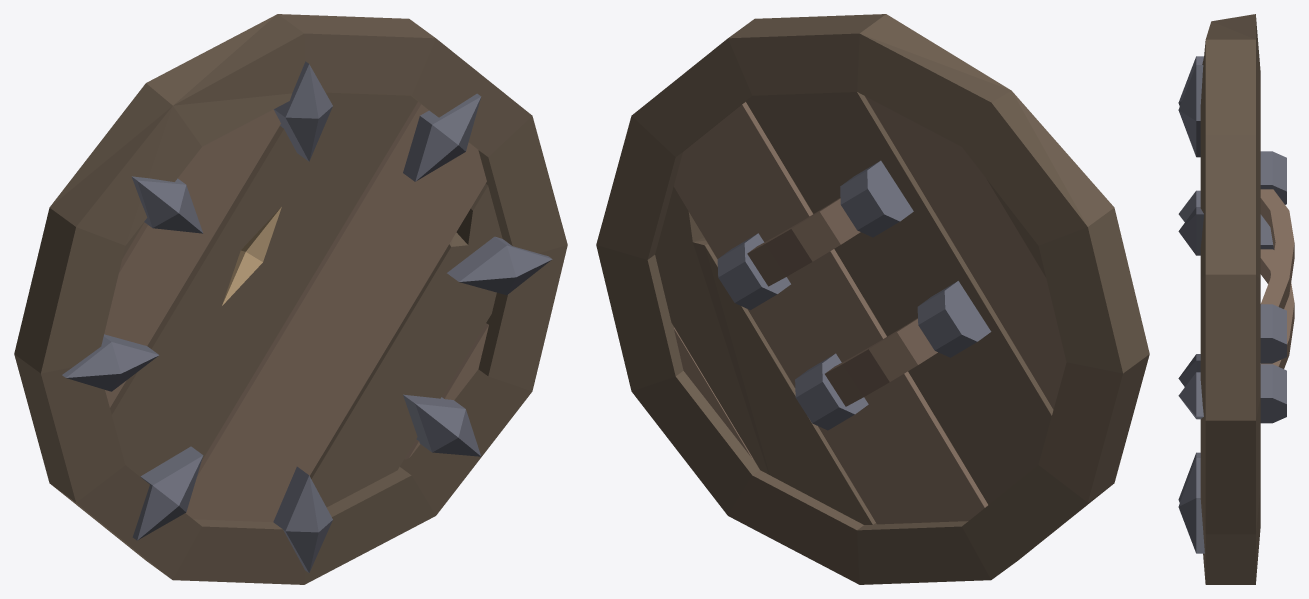
The model's file is shield_shield_3.glb.
3 renders of one model, left to right at view 1: azimuth 30°, elevation 25°; view 2: azimuth 150°, elevation 25°; view 3: azimuth 270°, elevation 25°, orthographic. The views are drawn at different scales.
Visible parts, largest first — view 1: shield_3; view 2: shield_3; view 3: shield_3.
Part boxes in pixels (box(x1,y1,x2,y2)): shield_3: box(14, 14, 567, 584); shield_3: box(596, 14, 1149, 584); shield_3: box(1178, 14, 1294, 584).
Bounding box in the file's own units: 64 × 64 × 12.96.
Materials: 1 (1 with a texture image).
